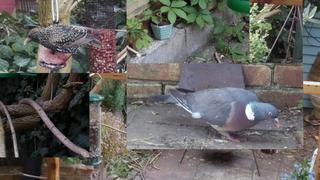starling: (24, 24, 103, 54)
wood pigeon: (151, 87, 279, 143)
